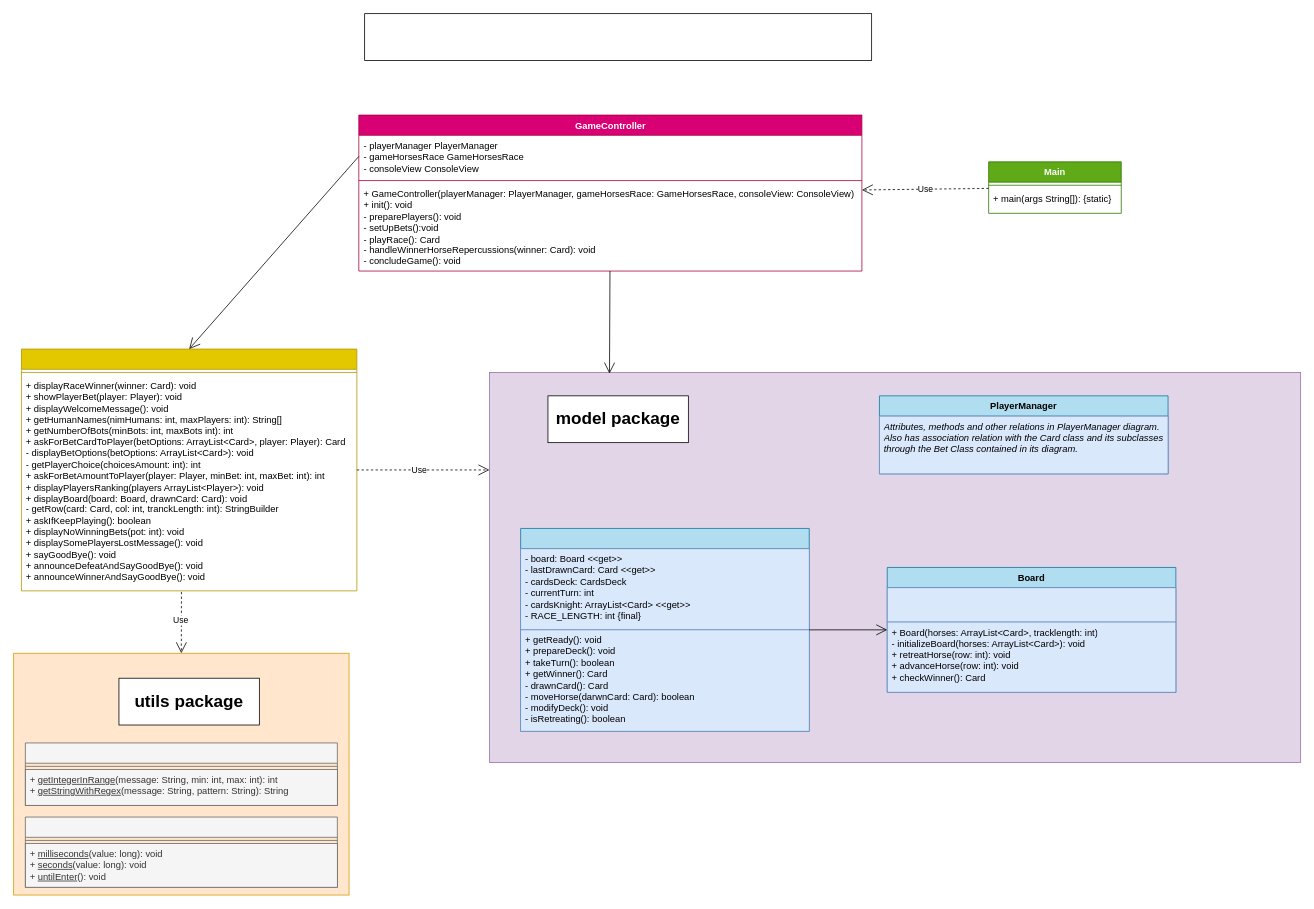
Image size: 1314x909. Some labels were removed from this diagram. The box of each missing label's shape, as (x1, y1, x2, y2) in pixels:
- board: Card[][] <<get>> - trackLength: int <<get>>: (886, 587, 1176, 622)
ConsoleInOut: (25, 742, 337, 805)
ConsoleView: (21, 348, 357, 591)
GameHorsesRace: (520, 528, 809, 731)
Main Class + MVC Diagram: (364, 13, 872, 60)
Pause: (25, 816, 337, 887)
